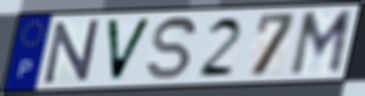2: (193, 15, 247, 78)
7: (250, 12, 300, 80)
M: (286, 7, 356, 79)
N: (42, 18, 101, 87)
S: (145, 15, 199, 83)
V: (103, 17, 155, 84)
